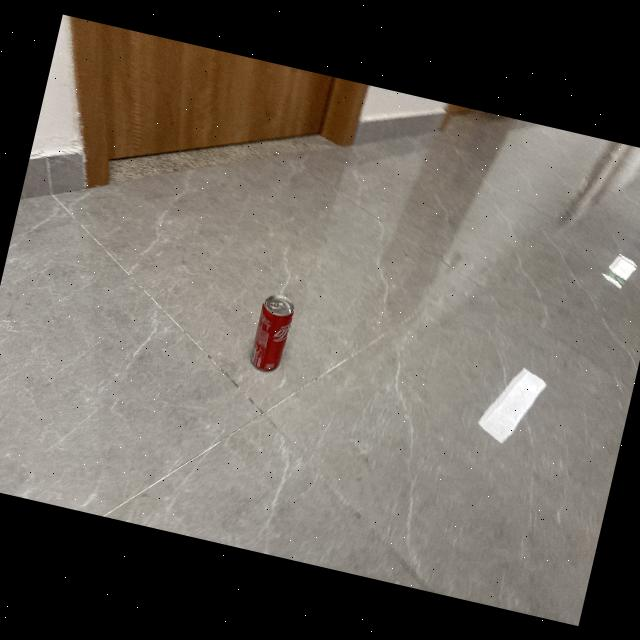Cola: (242, 288, 302, 381)
